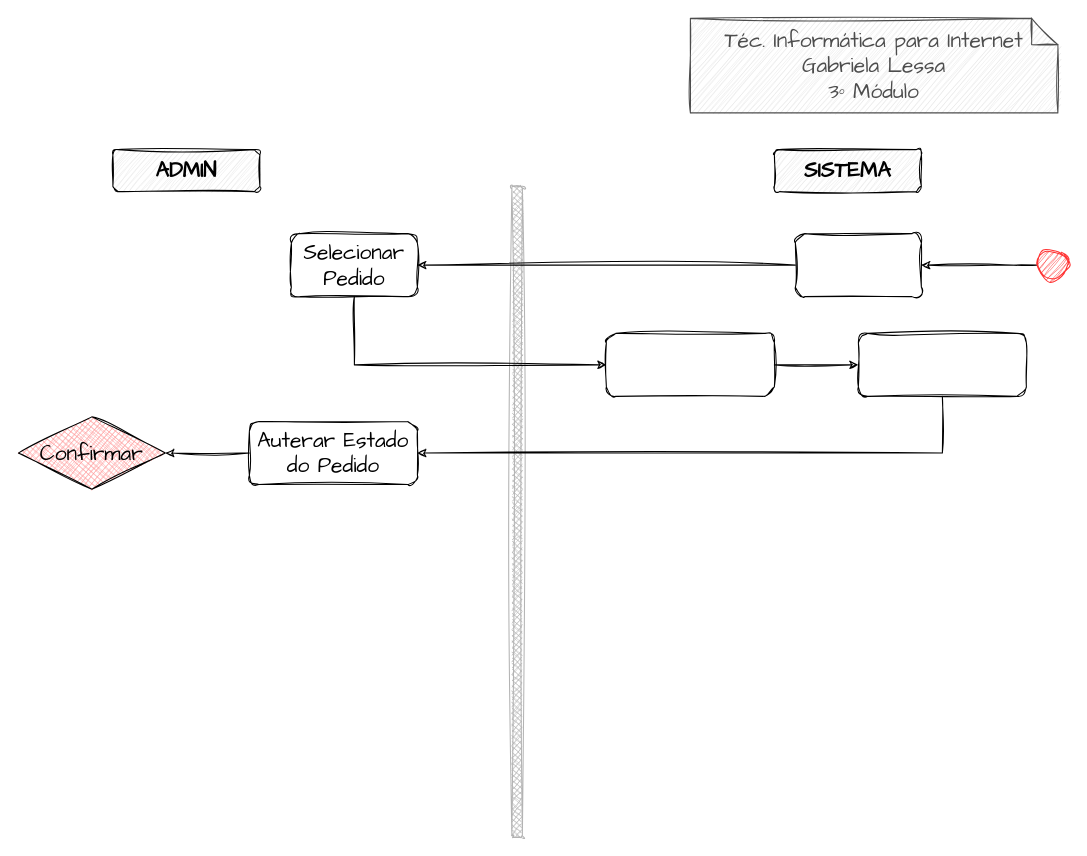
Image size: 1087x856. Some labels were removed from this diagram. The centre of each missing label's shape, as x and y in pixels:
Listar Conteúdo do Pedido: pixel 689 364
Listar Estados do Pedido: pixel 941 364
Listar Pedidos: pixel 857 265
